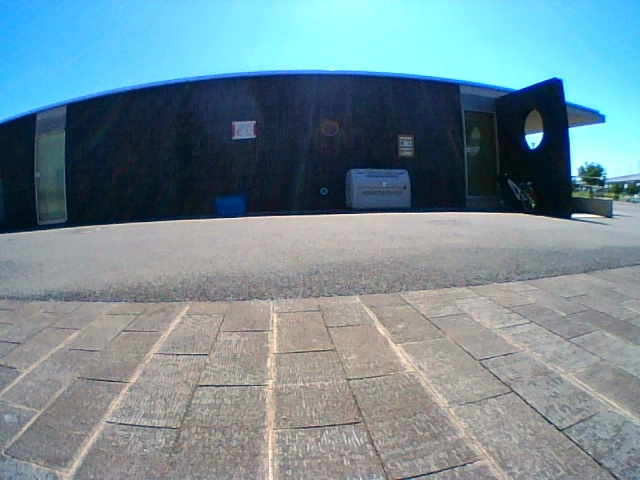blue_box: (213, 196, 243, 216)
